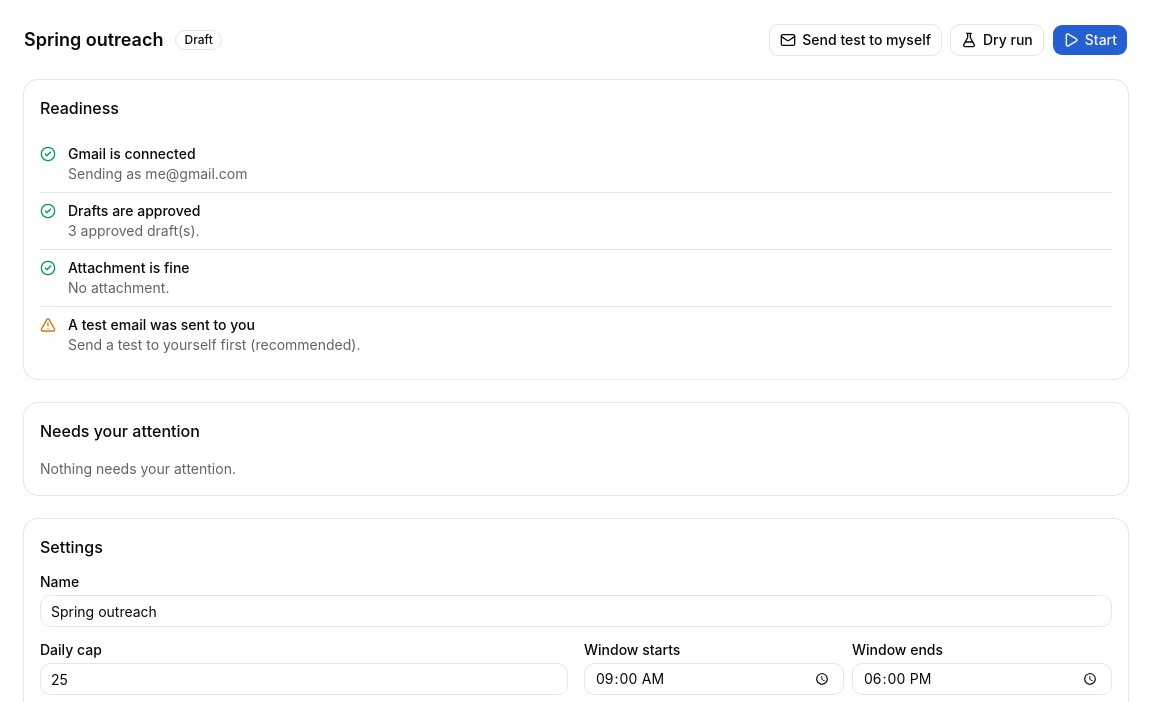
Test case: campaign detail › starts the campaign and shows a server refusal inline
Click the button "Start": (1090, 40) [1052,24,1128,56]
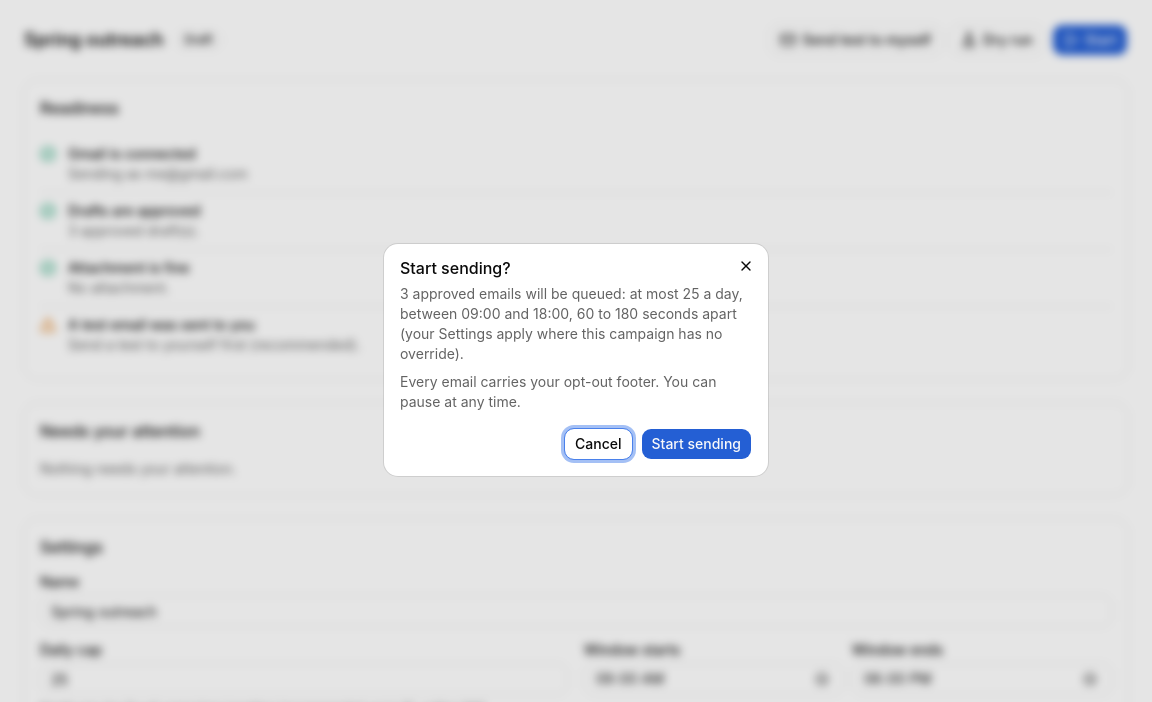
Now the text with test id "start-summary" shows "3 approved emails will be queued: at most 25 a day, between 09:00 and 18:00", box [400,284,752,364]
Click the button "Start sending": (696, 444) [640,428,752,460]
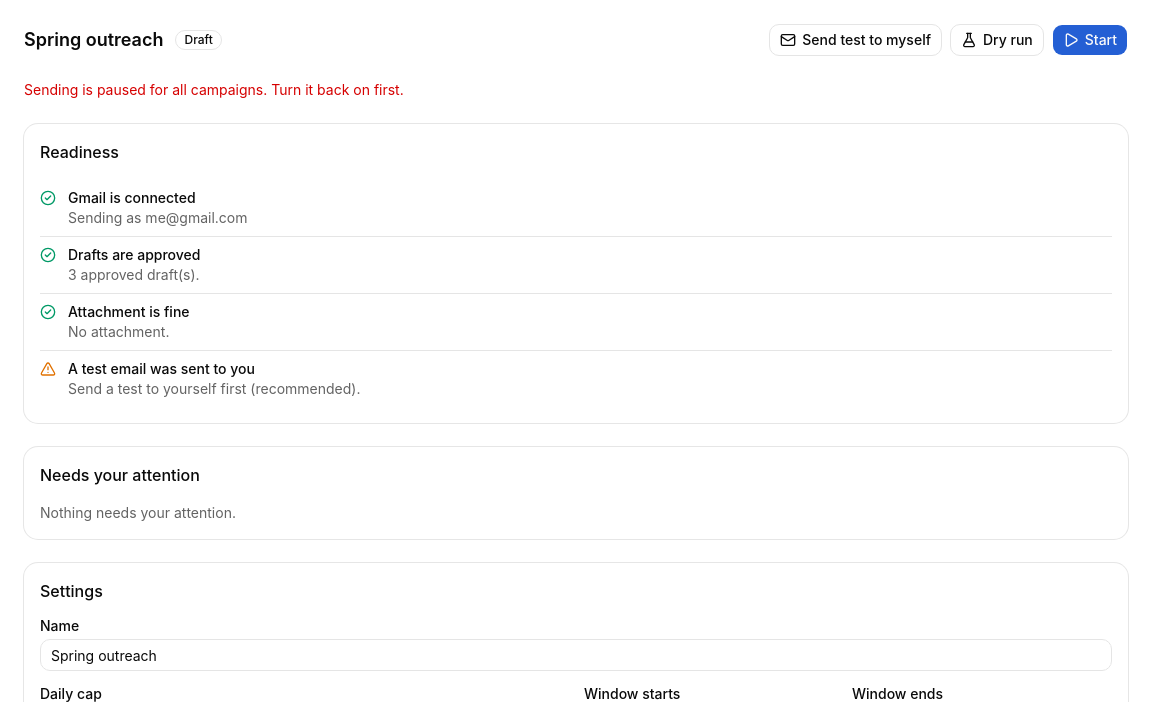
Now the message with test id "action-error" shows "paused for all campaigns", box [24,81,404,98]
